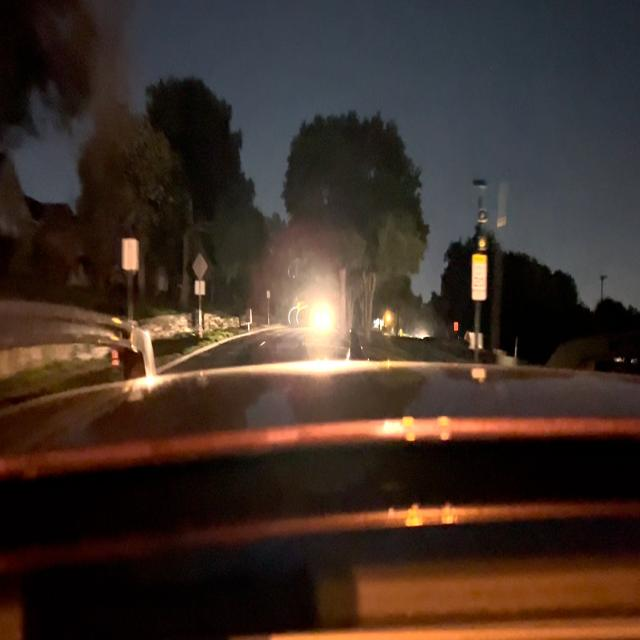back-of-sign: (195, 255, 207, 295), (125, 239, 139, 268)
